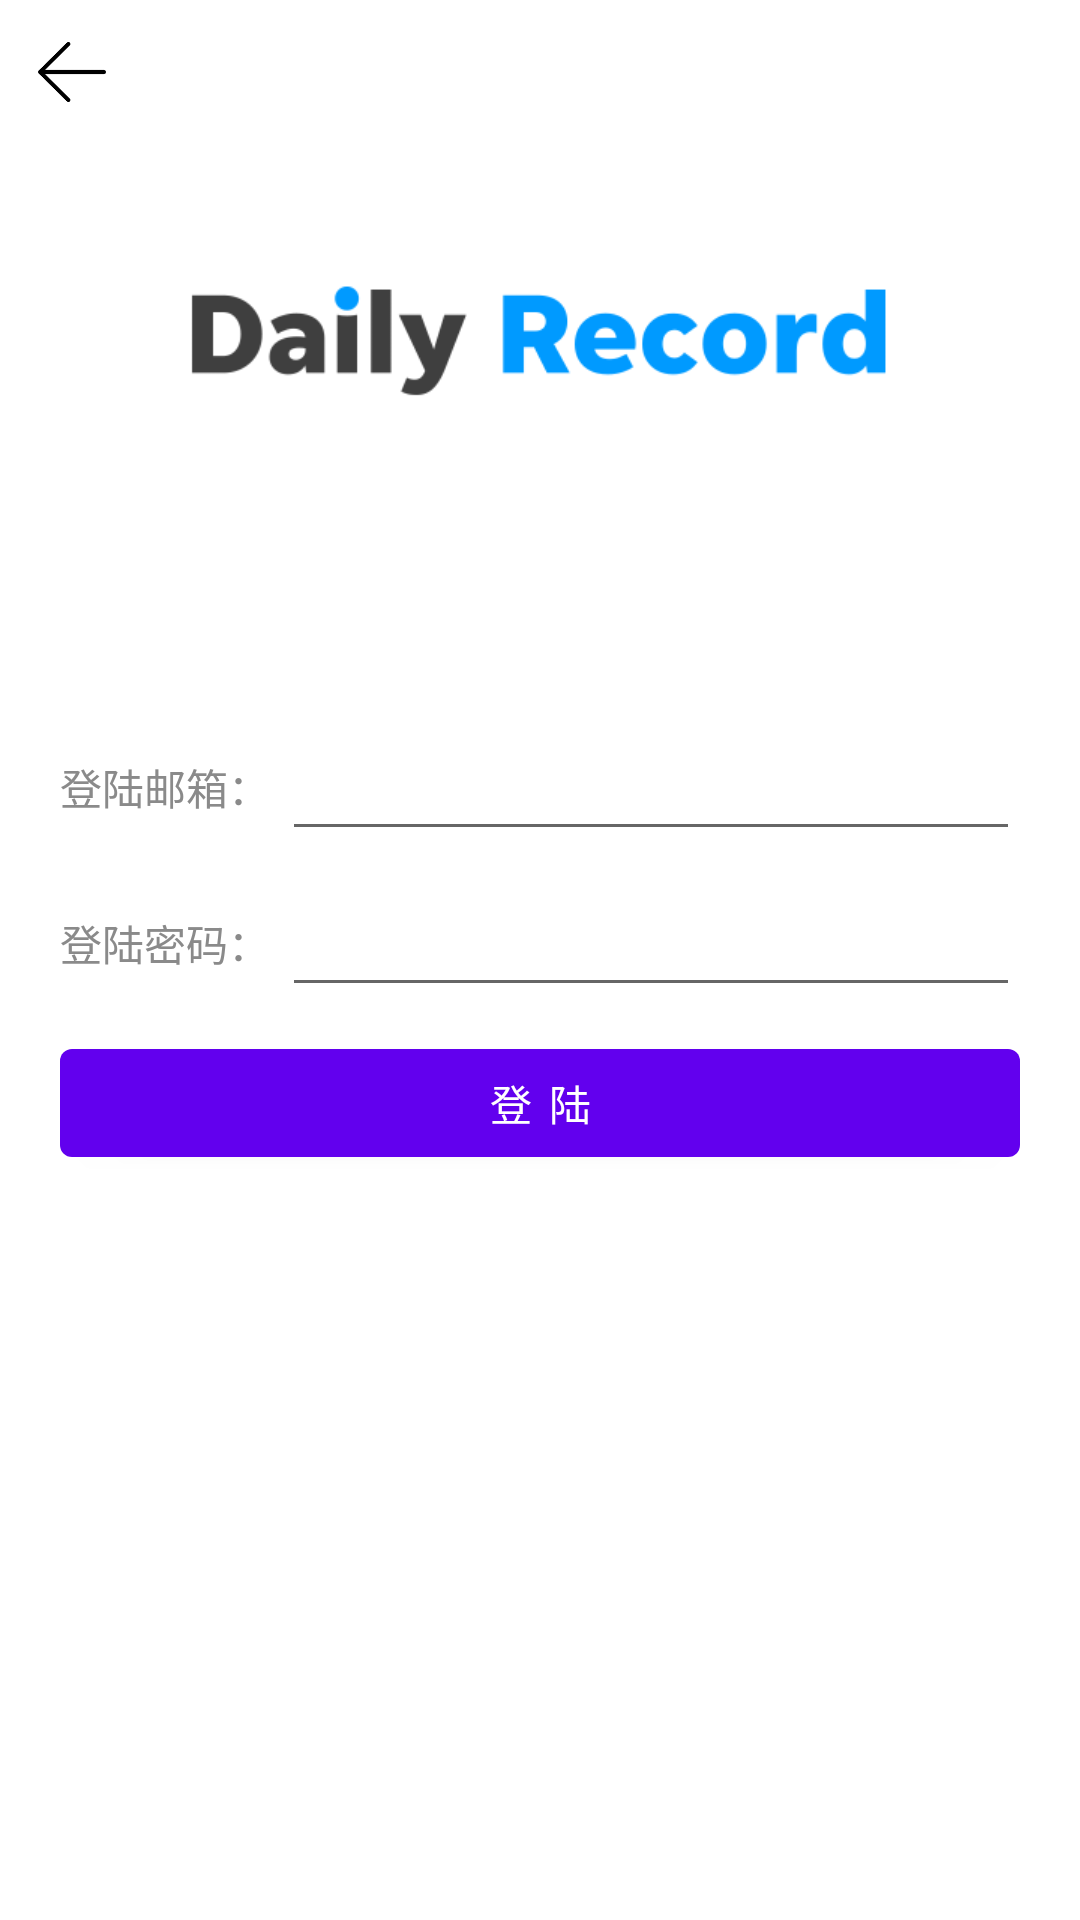

Screen size 1080x1920. Icon name, then its center in pixels as (x=x, y=y):
back arrow: (x=72, y=72)
